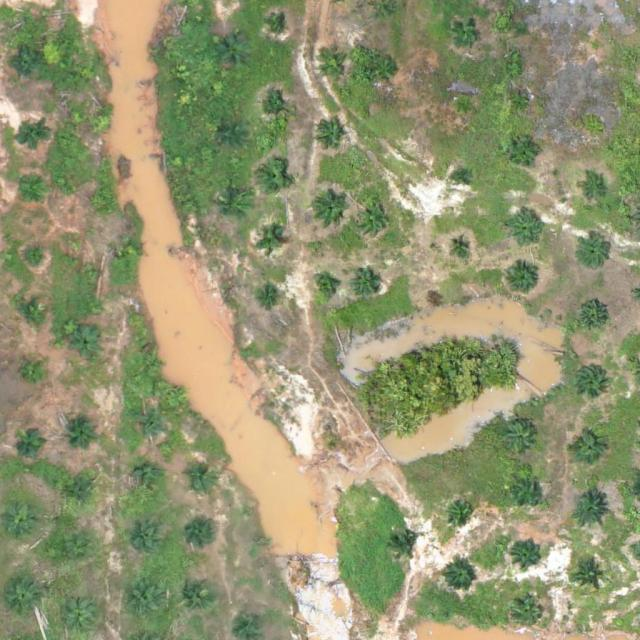Grass: (13, 50, 44, 81)
Small: (53, 535, 93, 575), (125, 520, 165, 560), (5, 502, 44, 542), (124, 581, 164, 620), (179, 575, 218, 615), (353, 201, 393, 240), (4, 578, 43, 617), (572, 493, 611, 532), (504, 261, 543, 300), (506, 210, 545, 249), (312, 190, 351, 229), (373, 54, 404, 86), (572, 434, 603, 466), (579, 237, 610, 269), (506, 424, 537, 456), (513, 476, 544, 508), (513, 537, 544, 569), (575, 562, 606, 594), (577, 301, 608, 333), (510, 136, 541, 168), (16, 297, 47, 329), (318, 51, 349, 83), (189, 520, 220, 551), (68, 415, 99, 446), (17, 430, 48, 461), (135, 411, 166, 442), (72, 330, 103, 361), (133, 465, 164, 496), (186, 464, 217, 495), (575, 365, 606, 396), (445, 563, 476, 594), (514, 601, 545, 632), (446, 498, 477, 529), (390, 533, 421, 564), (66, 480, 97, 511), (261, 95, 292, 126), (260, 163, 291, 194), (315, 121, 346, 152), (353, 269, 384, 300), (18, 122, 49, 153), (17, 178, 48, 209), (453, 17, 484, 48), (220, 38, 251, 69), (221, 195, 252, 226), (580, 179, 604, 203), (140, 353, 164, 377), (22, 360, 46, 384), (259, 229, 283, 253), (259, 285, 283, 309), (314, 275, 338, 299), (80, 260, 104, 284), (86, 190, 110, 214), (90, 112, 114, 136), (451, 235, 474, 259), (120, 237, 143, 261), (453, 96, 477, 119), (222, 124, 245, 148), (511, 92, 534, 116), (24, 249, 47, 272), (454, 171, 470, 187), (271, 17, 287, 33), (589, 40, 605, 55)
